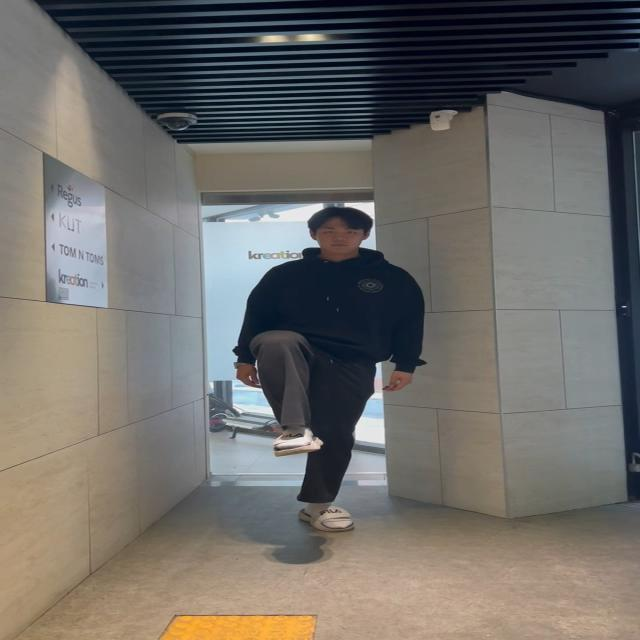knee: (232, 325, 330, 457)
